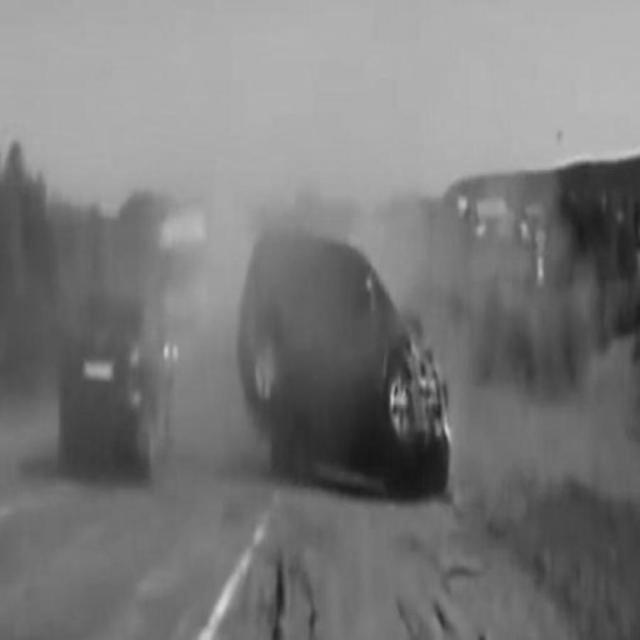accident: (240, 235, 456, 498)
vehicle: (50, 285, 178, 480)
